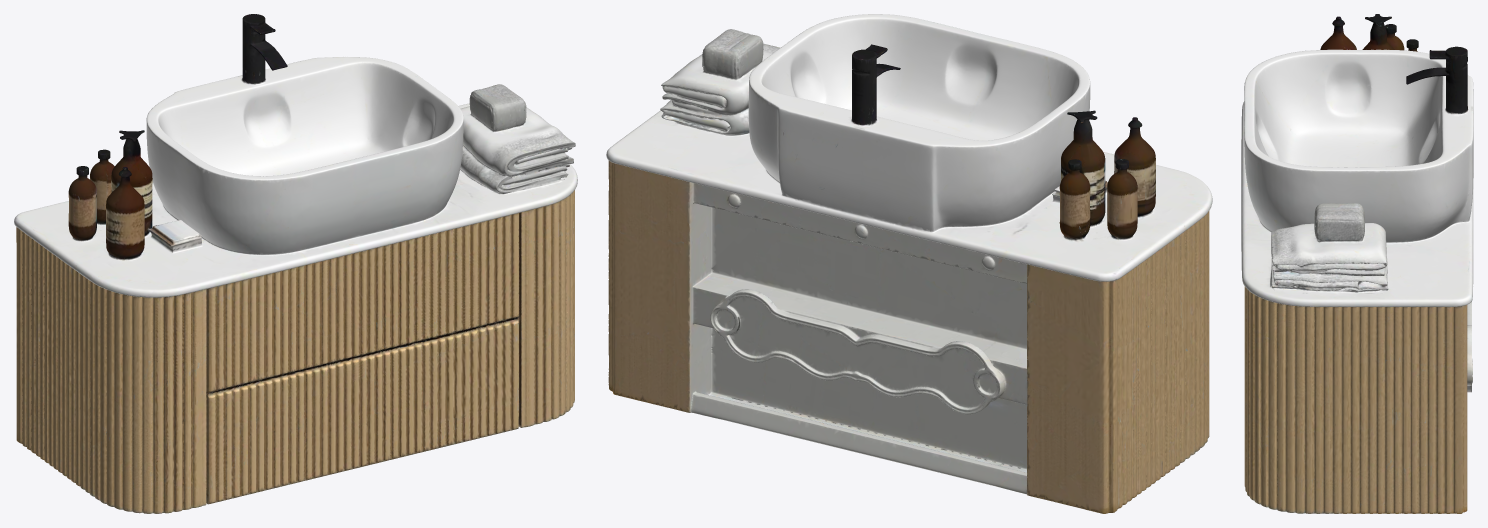
Rendered from meshy 3d waschtisch.glb.
The picture shows the model from 3 angles, left to right: view 1: azimuth 30°, elevation 25°; view 2: azimuth 150°, elevation 25°; view 3: azimuth 270°, elevation 25°; orthographic projection. The views are drawn at different scales.
Bounding box in the file's own units: 1.9 × 1.4 × 0.8339.
Materials: 1 (1 with a texture image).
